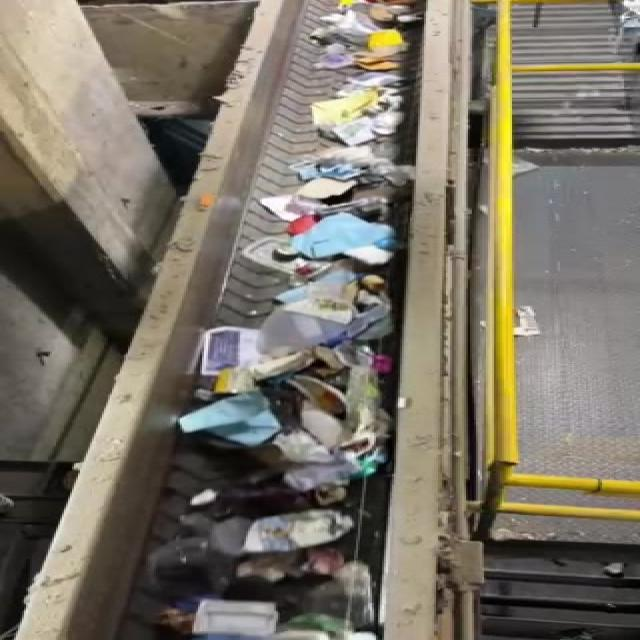paper: (186, 498, 368, 552), (168, 384, 290, 455), (328, 351, 406, 456), (162, 318, 266, 380), (166, 601, 294, 638)
pp: (317, 559, 398, 637)
